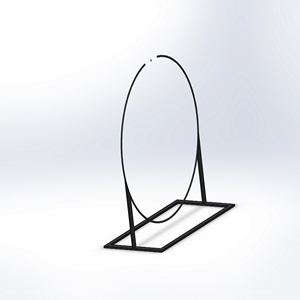circle: (102, 53, 237, 253)
